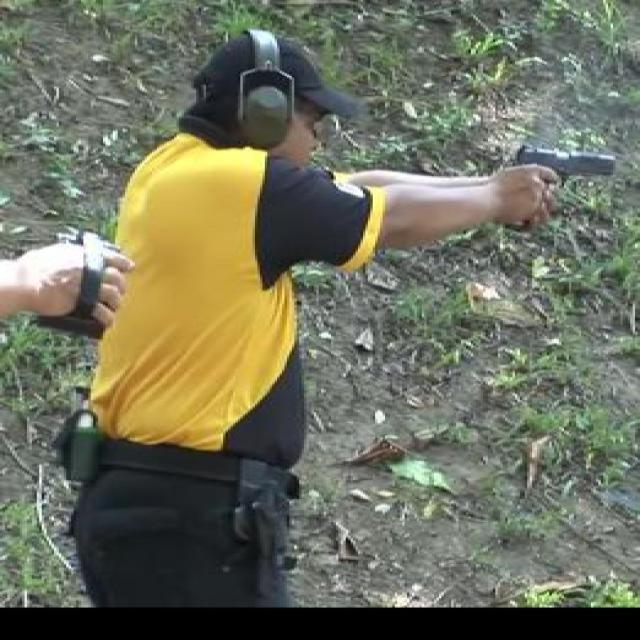weapon: (502, 144, 616, 234)
